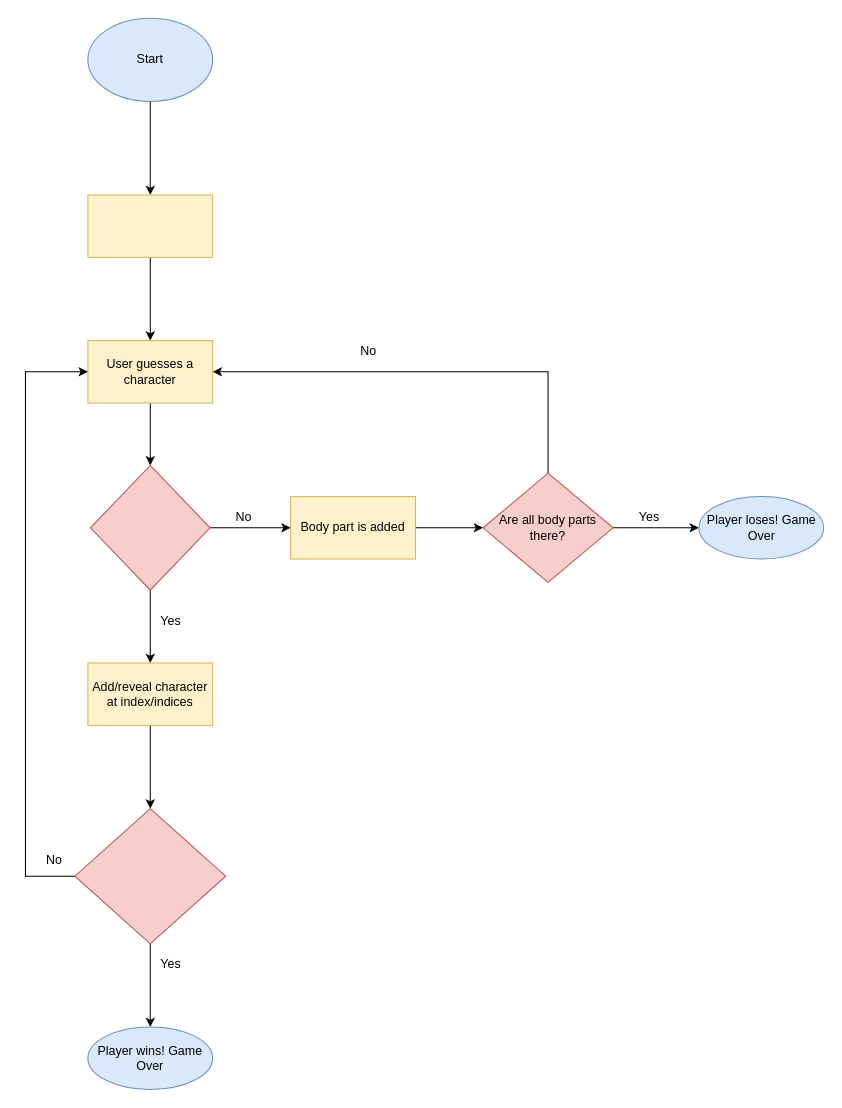
Image size: 842x1108. Some labels were removed from this diagram. The shapes that lost their labels are listed below. From the top down, each one's box as (x1, y1, x2, y2) in pixels, then its label:
(87, 194, 213, 257): Program selects word and sets up new game
(89, 464, 210, 590): Is character in the word?
(74, 808, 226, 944): Did user guess all characters correctly?
